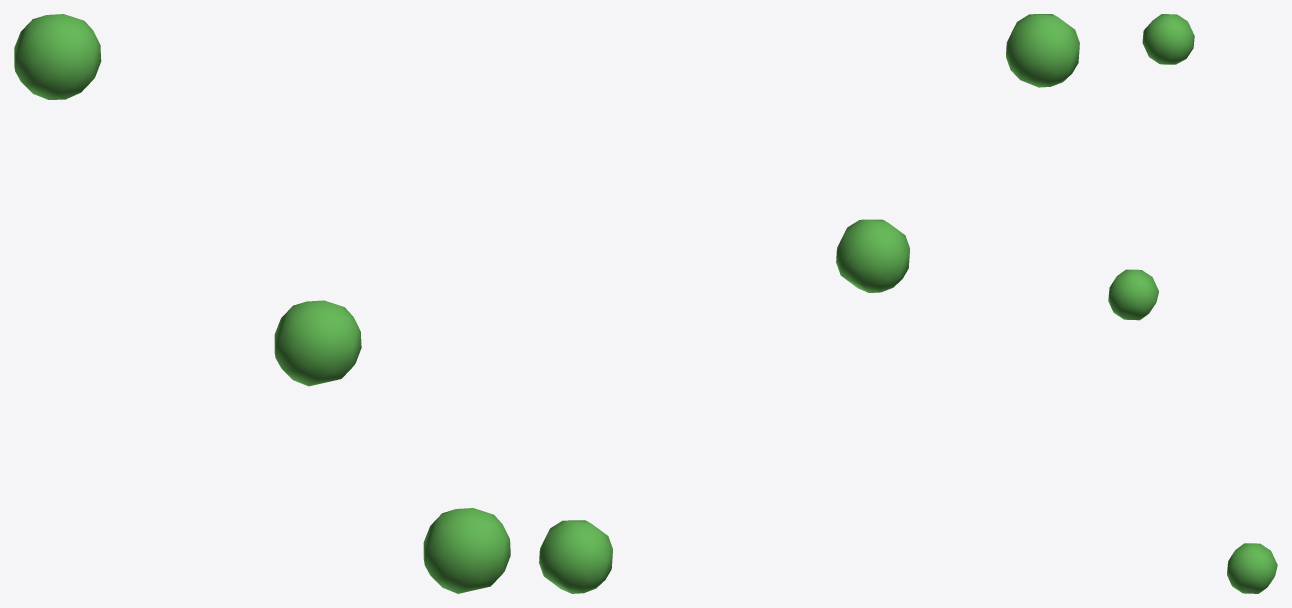
File: linfatico-appendicular-nodes.glb
The picture shows the model from 3 angles, left to right: view 1: azimuth 30°, elevation 25°; view 2: azimuth 150°, elevation 25°; view 3: azimuth 270°, elevation 25°; orthographic projection. The views are drawn at different scales.
Visible parts, largest first — view 1: Appendicular nodes; view 2: Appendicular nodes; view 3: Appendicular nodes.
Boxes of the visible parts, x1=… form: Appendicular nodes: x1=14, y1=14, x2=510, y2=593; Appendicular nodes: x1=539, y1=14, x2=1079, y2=593; Appendicular nodes: x1=1108, y1=14, x2=1277, y2=593.
Size of the model in its own units: 0.0186 by 0.0237 by 0.00831.
